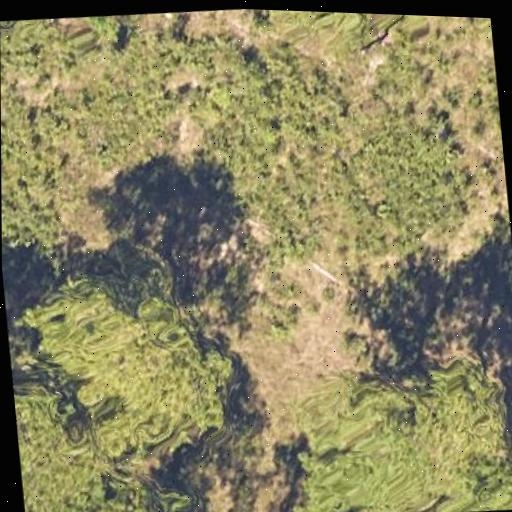tree-top: (26, 253, 243, 465), (297, 362, 512, 512), (12, 362, 189, 512)
